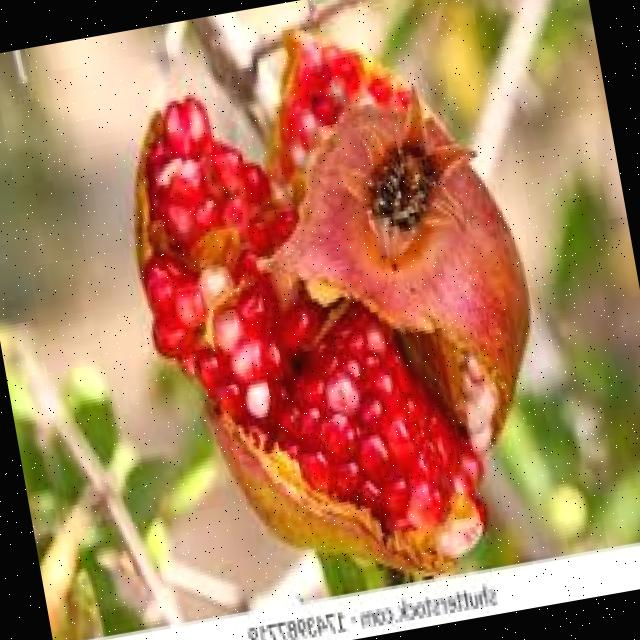overripe: (98, 0, 577, 614)
